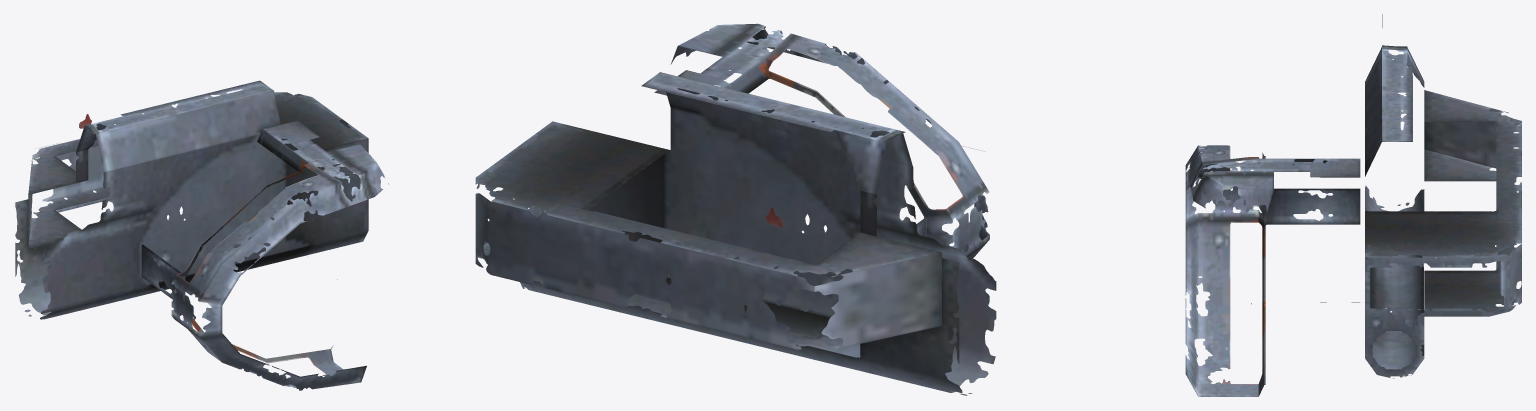
The model's file is eqp_motor_small_s02_l1.fbx.
3 renders of one model, left to right at view 1: azimuth 30°, elevation 25°; view 2: azimuth 150°, elevation 25°; view 3: azimuth 270°, elevation 25°, orthographic. The views are drawn at different scales.
Parts seen in each view (by area): view 1: mesh_node; view 2: mesh_node; view 3: mesh_node.
Part boxes in pixels (x1,y1,x2,y2): mesh_node: (15, 80, 388, 390); mesh_node: (475, 23, 996, 395); mesh_node: (1185, 14, 1521, 396).
Size of the model in its own units: 0.3364 by 0.2341 by 0.3833.
1 material, 1 textured.
